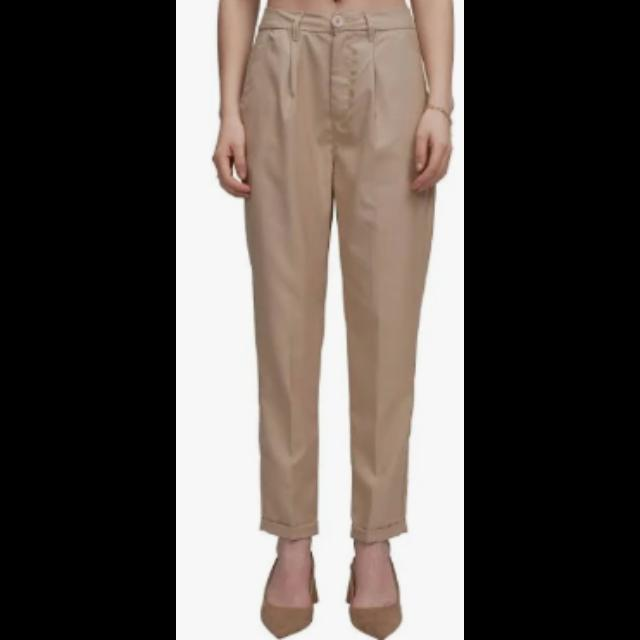bottom: (244, 5, 432, 523)
